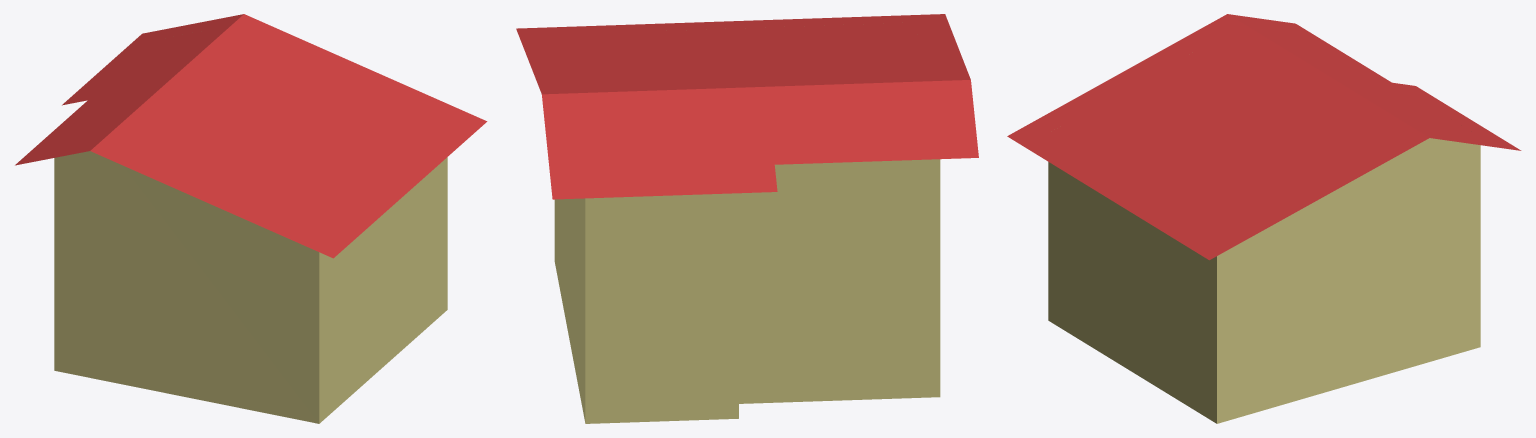
3 views of the same model, side by side, from view 1: azimuth 30°, elevation 25°; view 2: azimuth 150°, elevation 25°; view 3: azimuth 270°, elevation 25° (orthographic). The views are drawn at different scales.
Size of the model in its own units: 12.45 by 13.02 by 6.67.
